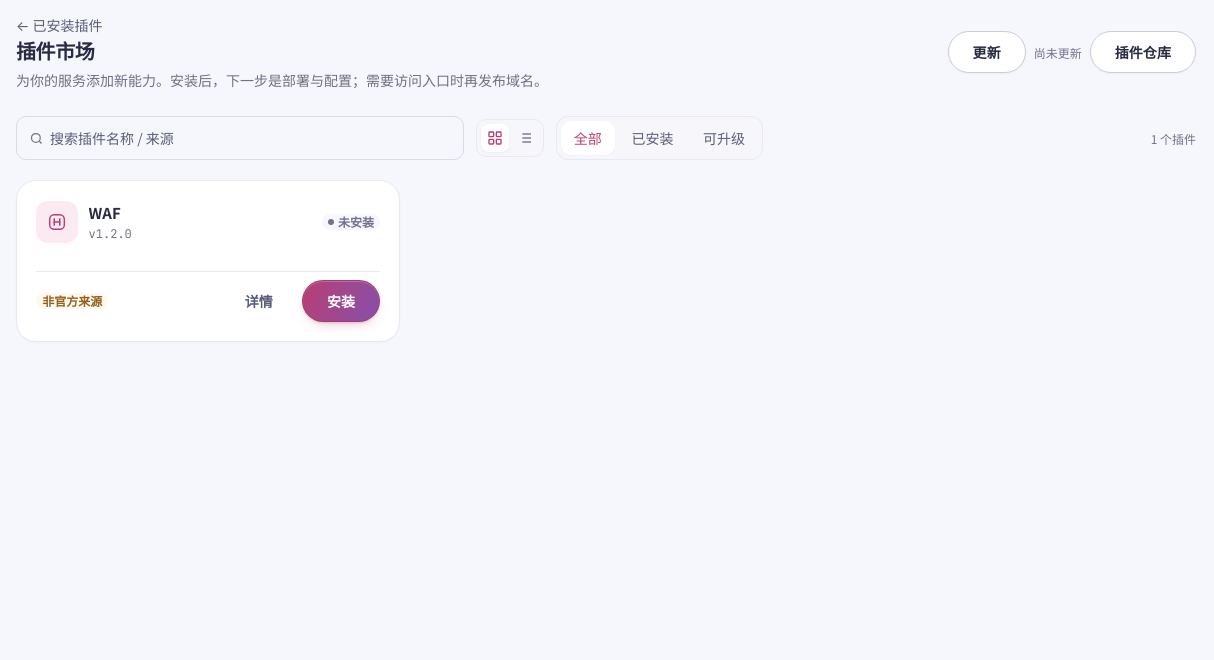
PluginMarketplacePage › explains a package-detail timeout on the confirm dialog
Click the button "安装" at (341, 301), box [302,280,380,322]
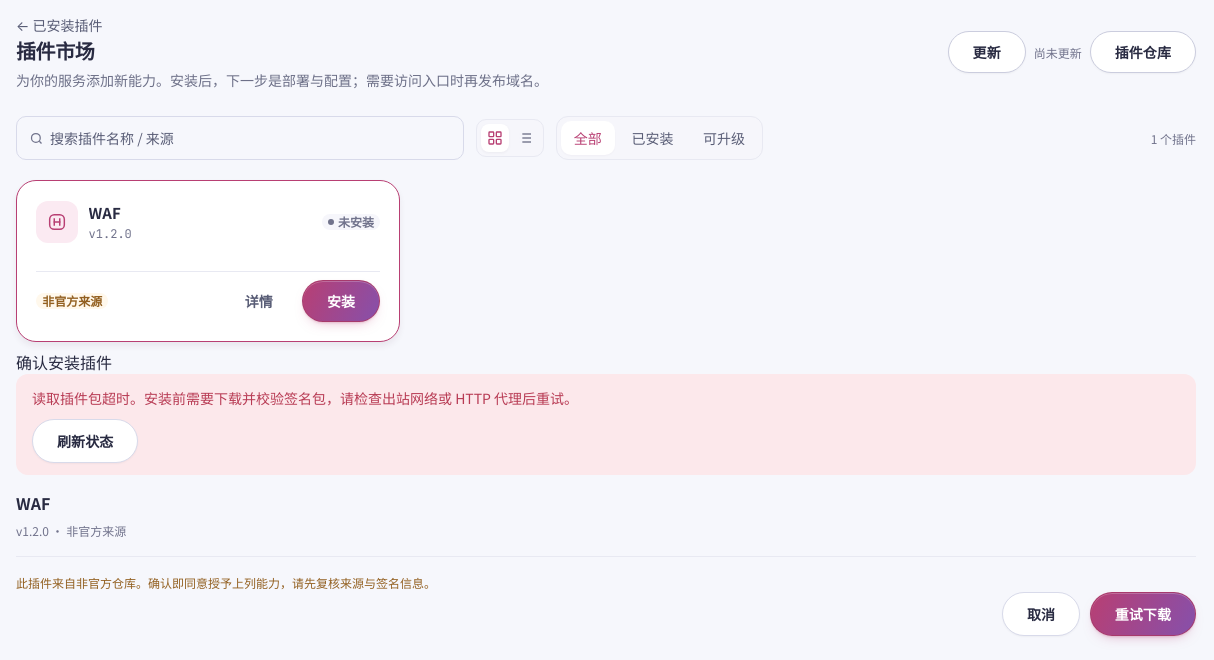
Expected: the message with test id "marketplace-action-error" shows "读取插件包超时", [32,388,578,408]
Expected: the button "重试下载" is enabled, [1090,592,1196,636]
